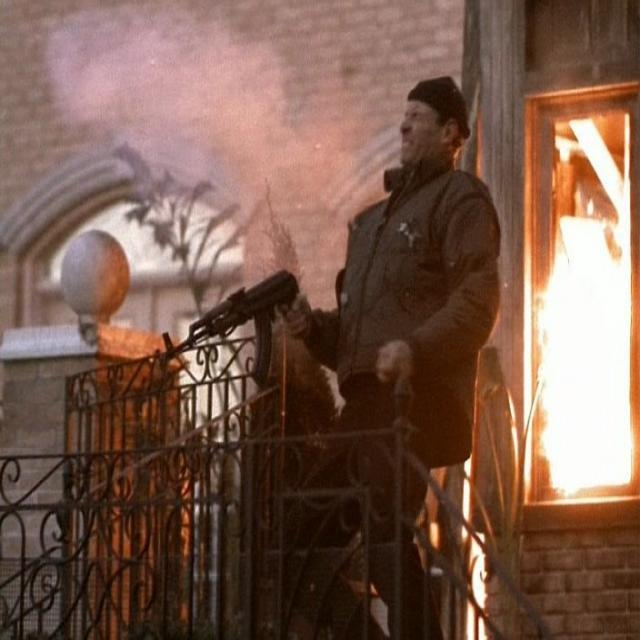gun-knife-thesis - v11 Yolov5 augmented: (140, 263, 312, 377)
